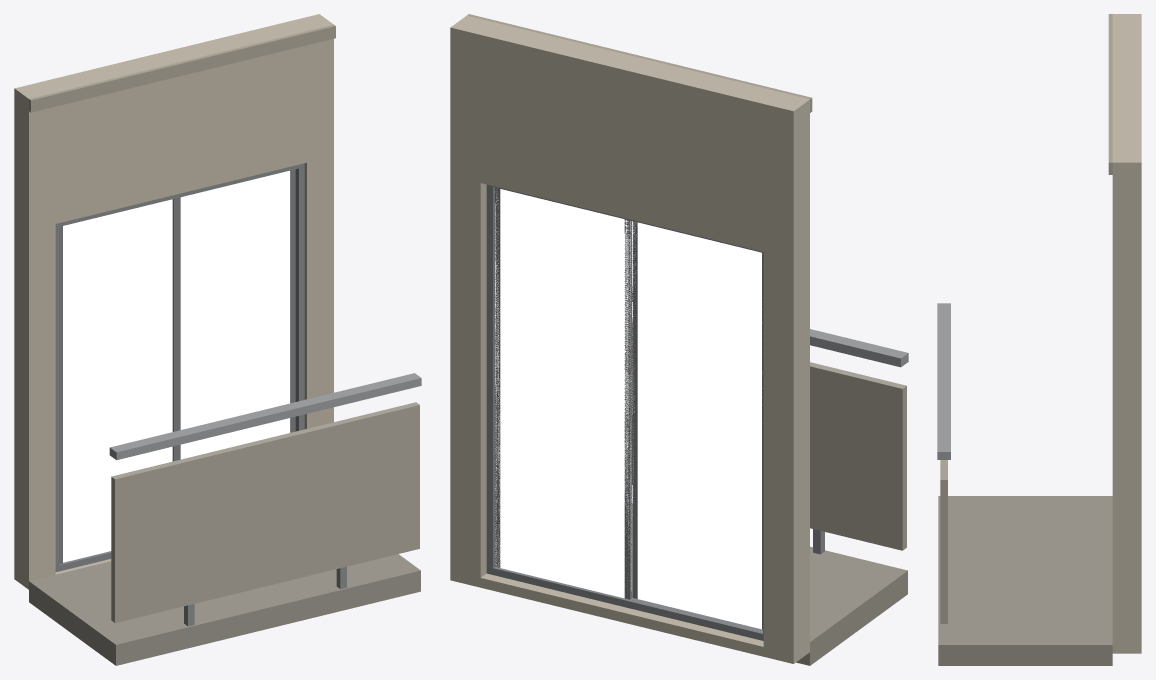
File: building_bay_balcony_01.glb
The picture shows the model from 3 angles, left to right: view 1: azimuth 30°, elevation 25°; view 2: azimuth 150°, elevation 25°; view 3: azimuth 270°, elevation 25°; orthographic projection. The views are drawn at different scales.
Visible parts, largest first — view 1: building_bay_balcony_01; view 2: building_bay_balcony_01; view 3: building_bay_balcony_01.
Boxes of the visible parts, <box> form: building_bay_balcony_01: <box>14,14,421,665</box>; building_bay_balcony_01: <box>450,14,908,665</box>; building_bay_balcony_01: <box>937,14,1141,665</box>.
Size of the model in its own units: 1.82 by 2.87 by 1.06.
